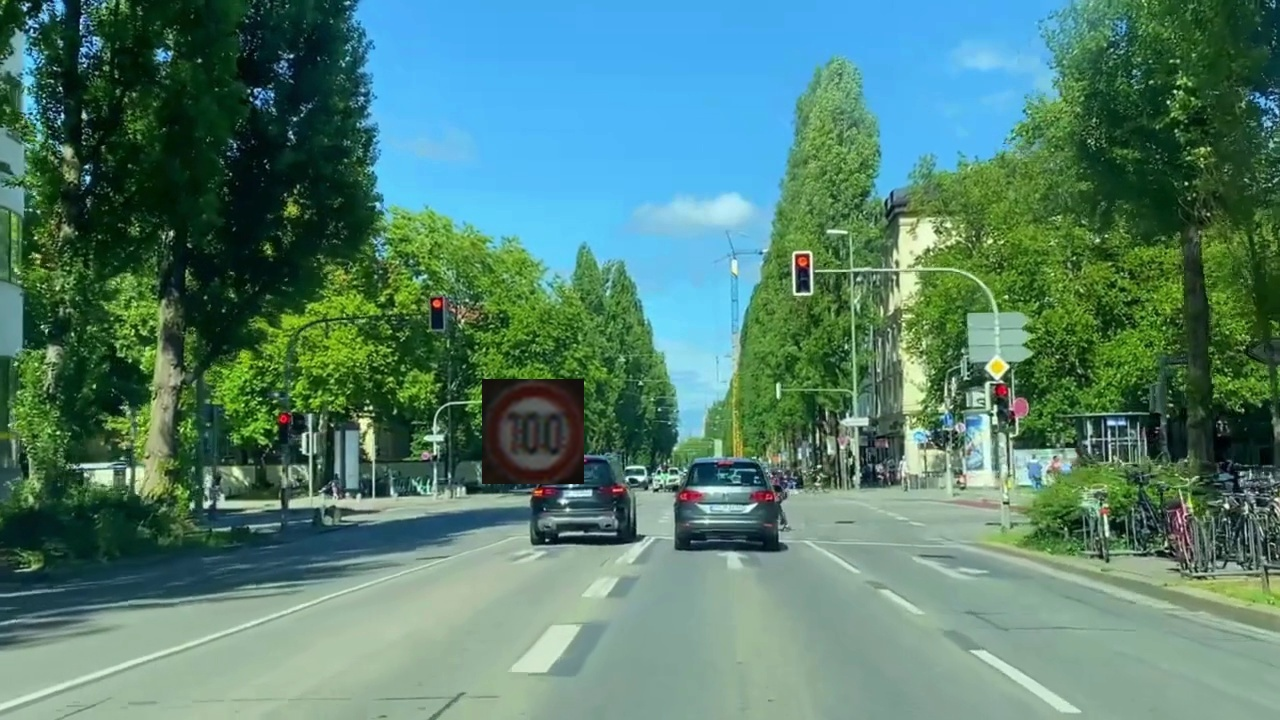Speed 100: (482, 379, 584, 484)
